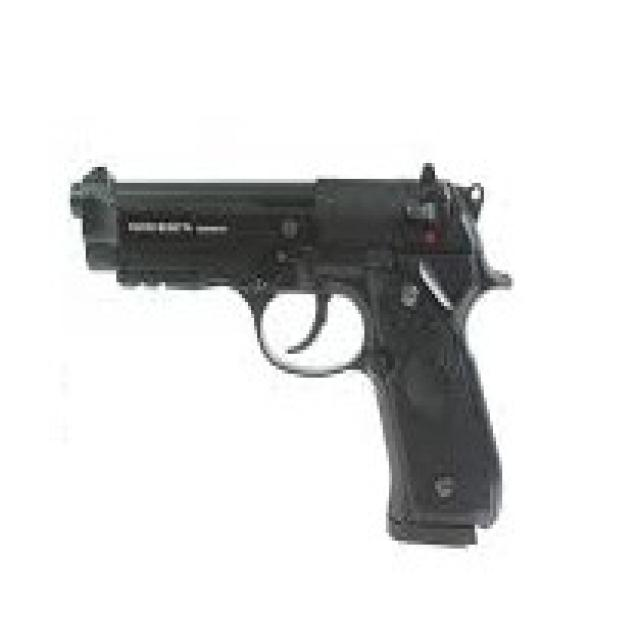pistol: (61, 151, 523, 558)
